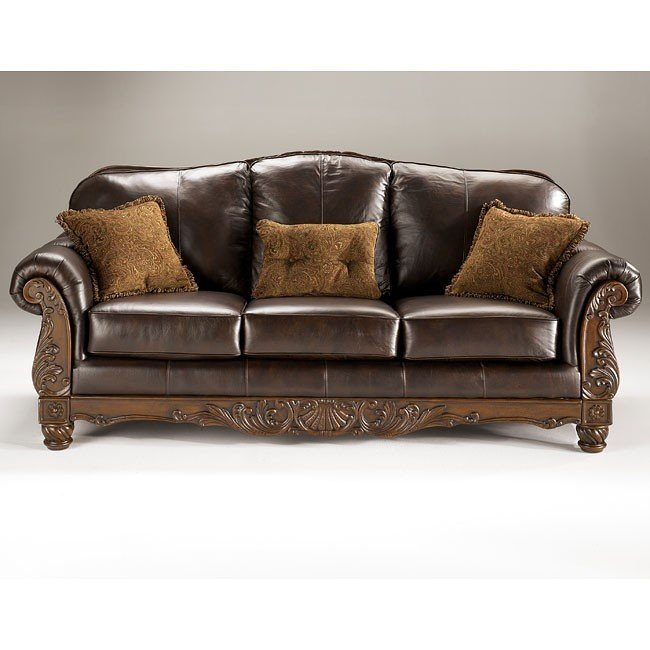chairs: (9, 151, 643, 464)
